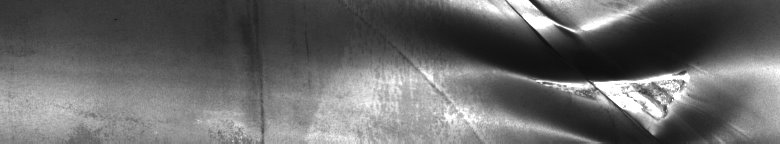ke: (424, 4, 701, 136)
